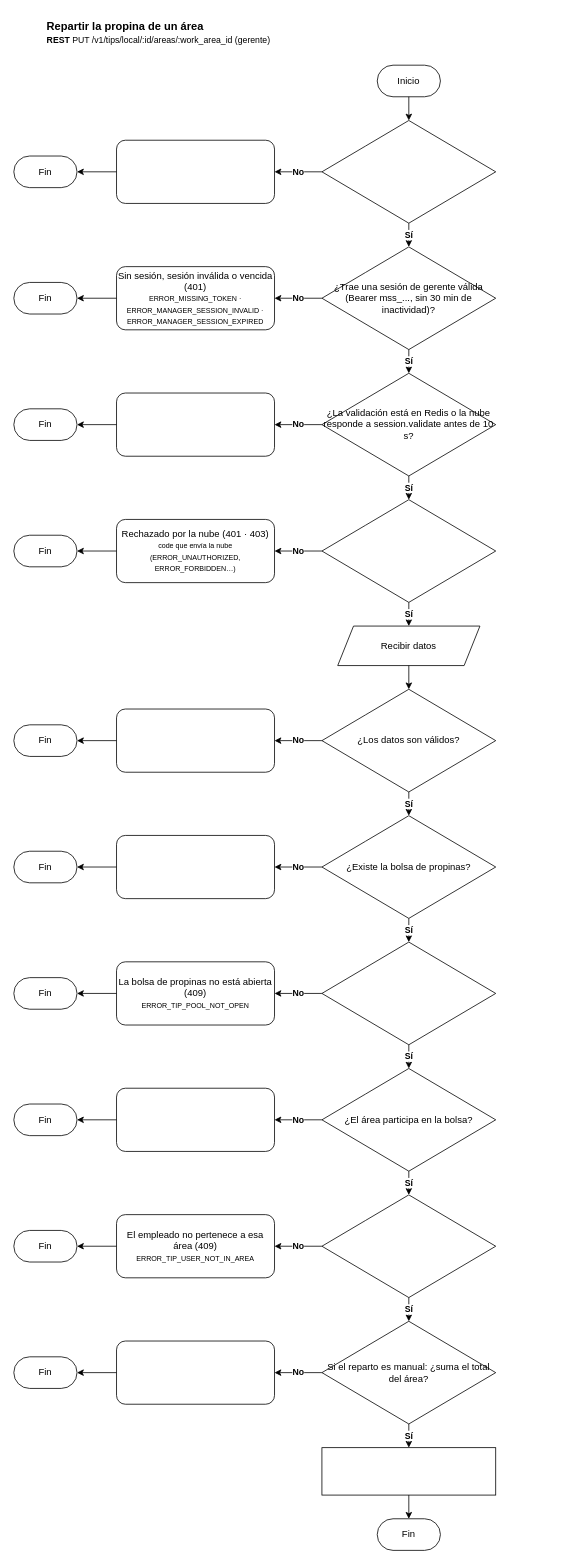
The diagram is 565 pixels wide and 1564 high, and some of its shapes have lost their labels. The shapes that lost their labels are listed below. From the top down, each one's box as (x1, y1, x2, y2) in pixels, then its label:
(116, 139, 275, 203): Servidor sin emparejar (409) ERROR_SERVER_NOT_PAIRED
(321, 120, 496, 223): ¿El servidor ya se emparejó alguna vez (pairing_status distinto de unpaired)?
(116, 392, 275, 456): La nube no responde (503) ERROR_CLOUD_UNAVAILABLE · ERROR_SERVER_UNLINKED
(321, 499, 496, 602): ¿La nube acepta la sesión del gerente con este servidor?
(116, 708, 275, 772): Datos inválidos (400) ERROR_BAD_REQUEST
(116, 835, 275, 899): No se encontró la bolsa de propinas (404) ERROR_TIP_POOL_NOT_FOUND
(321, 941, 496, 1045): ¿La bolsa está abierta?
(116, 1087, 275, 1151): El área no participa en esta bolsa de propinas (404) ERROR_TIP_AREA_NOT_IN_POOL
(321, 1194, 496, 1298): ¿Cada empleado pertenece al área?
(116, 1340, 275, 1404): El reparto manual no suma el total de la propina (409) ERROR_TIP_MANUAL_MISMATCH
(321, 1447, 496, 1495): Responder 200 con el mensaje AREA_UPDATED
